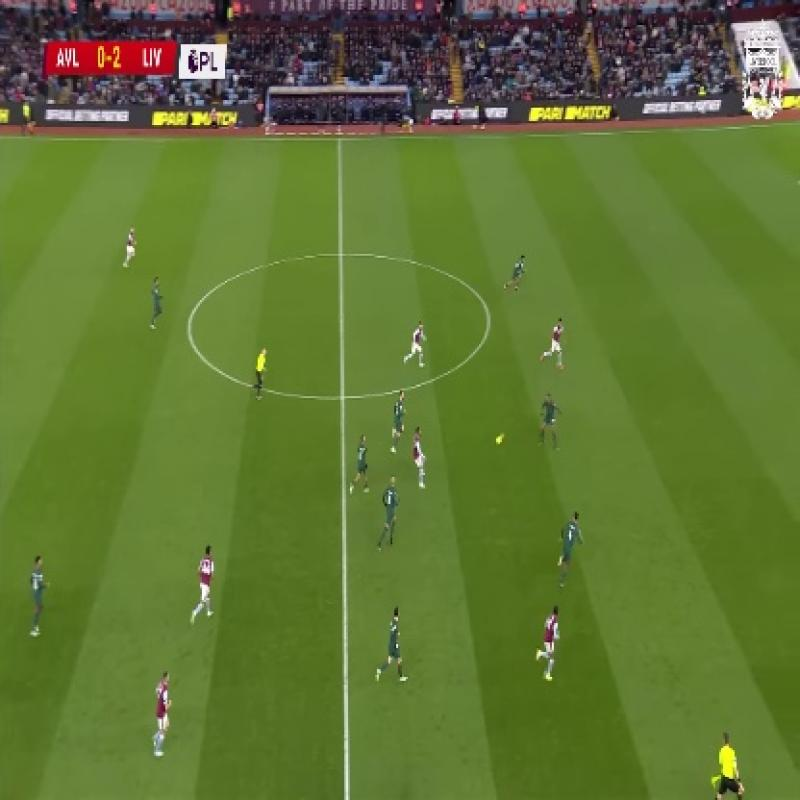13: (327, 121, 350, 154)
14: (325, 236, 354, 270)
15: (327, 374, 356, 416)
9: (786, 165, 800, 192)
c: (476, 304, 504, 335), (179, 310, 202, 341)
